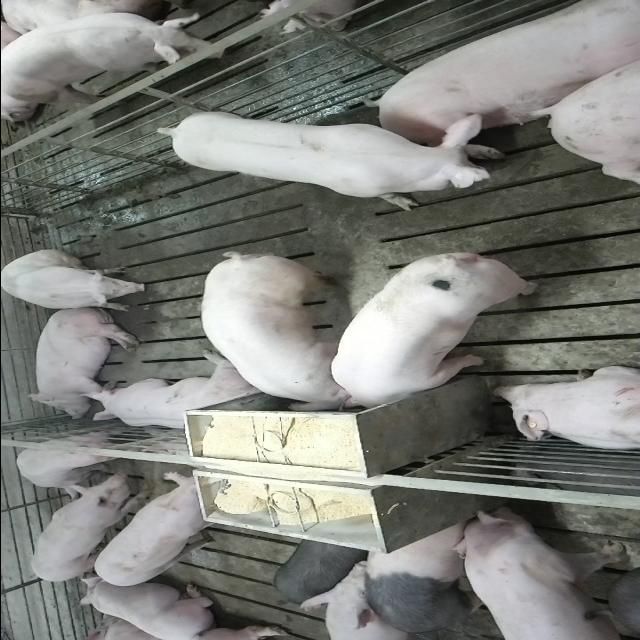Feeding: (328, 256, 540, 418), (198, 247, 358, 410)
Lateral_lying: (22, 307, 142, 419)
Sitting: (0, 250, 148, 312)
Standing: (151, 107, 511, 211), (0, 1, 226, 115), (450, 506, 640, 638), (90, 473, 229, 589), (360, 515, 490, 637), (28, 472, 154, 584), (12, 436, 134, 492)
Sternal_lying: (82, 356, 258, 434), (491, 368, 640, 454), (73, 578, 216, 637)
